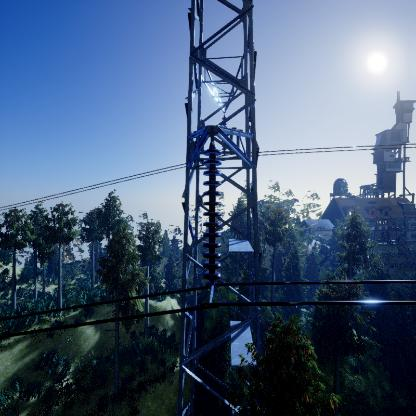insulator: (200, 148, 224, 281)
